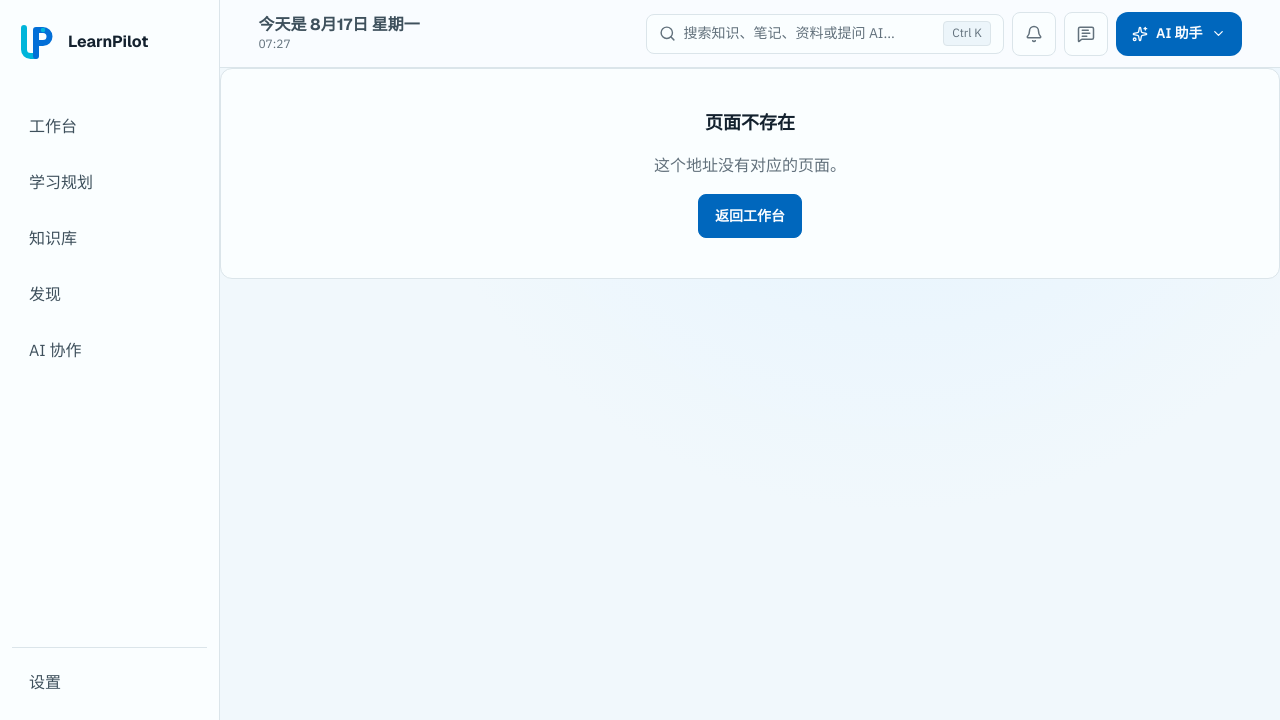
Test: Final UX Batch 3A copy and chrome contract › 全局壳层只保留真实搜索范围，不显示推进口号、解释提示或营销页脚
expect the text "页面不存在" is shown: met, box [705,109,795,137]
Click the button with aria-label "全局搜索" at (825, 34), box [646,14,1004,54]
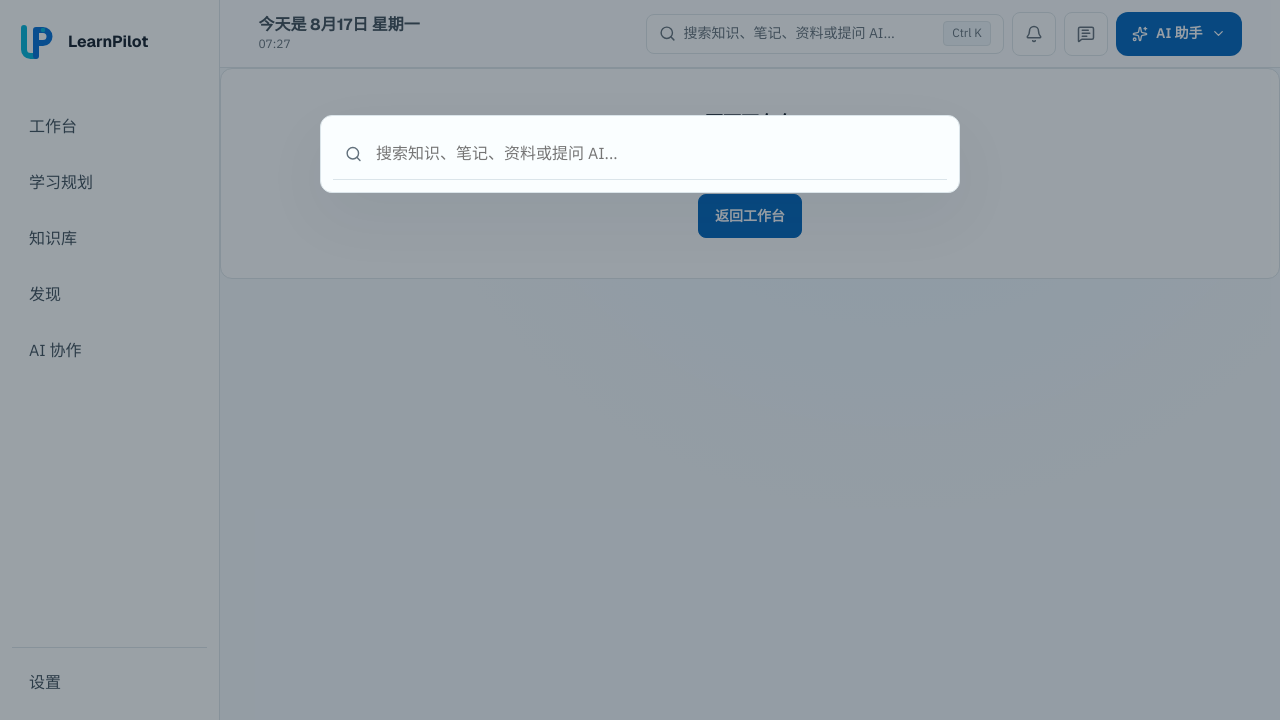
expect the field with placeholder "搜索知识、笔记、资料或提问 AI..." is shown: met, box [374,140,935,167]
